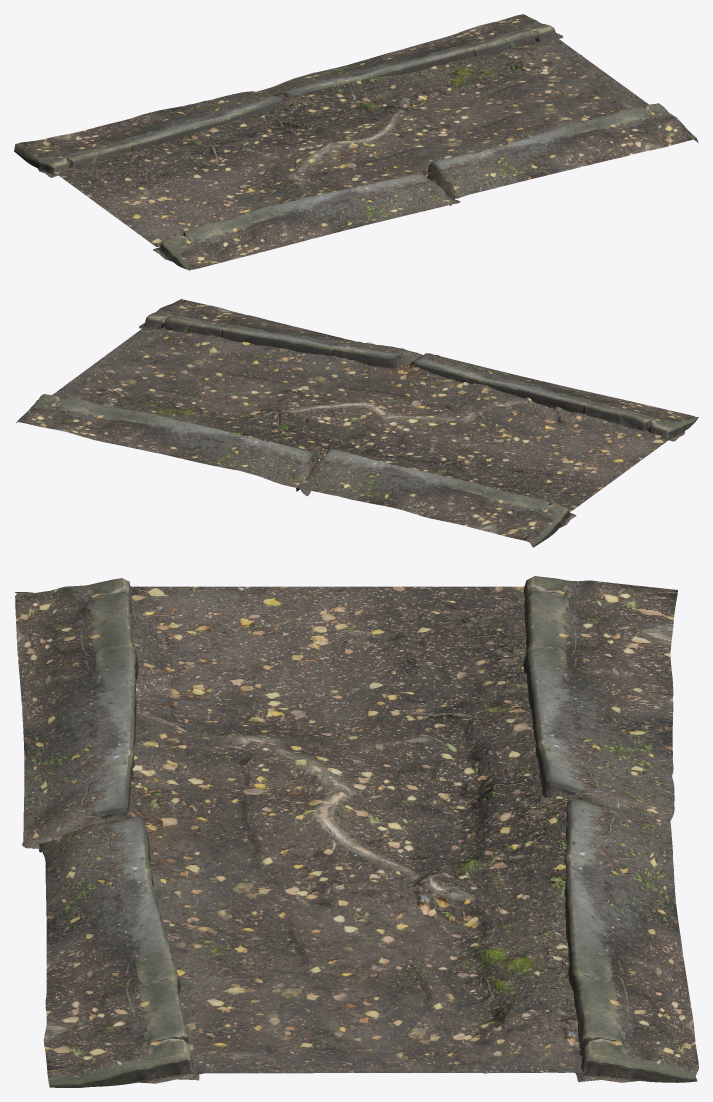
File: sm_Ground_04_03.fbx
3 renders of one model, top to bottom at view 1: azimuth 30°, elevation 25°; view 2: azimuth 150°, elevation 25°; view 3: azimuth 270°, elevation 25°, orthographic. The views are drawn at different scales.
Parts seen in each view (by area): view 1: sm_Ground_04_03_LOD0; view 2: sm_Ground_04_03_LOD0; view 3: sm_Ground_04_03_LOD0.
Part boxes in pixels (<box>): sm_Ground_04_03_LOD0: <box>14,14,698,270</box>; sm_Ground_04_03_LOD0: <box>16,299,698,547</box>; sm_Ground_04_03_LOD0: <box>14,576,698,1087</box>.
Size of the model in its own units: 513 by 299 by 28.39.
